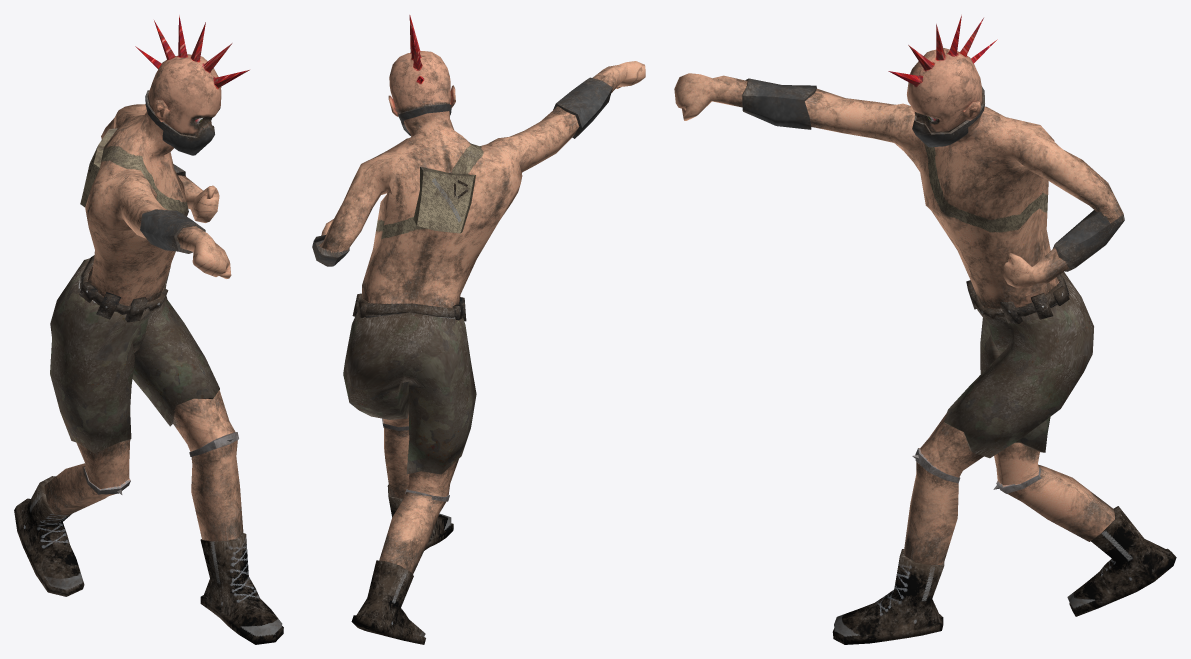
File: Anim_ataque_d1_npc2.0021.obj
3 views of the same model, side by side, from view 1: azimuth 30°, elevation 25°; view 2: azimuth 150°, elevation 25°; view 3: azimuth 270°, elevation 25° (orthographic). The views are drawn at different scales.
Visible parts, largest first — view 1: polySurface1; view 2: polySurface1; view 3: polySurface1.
Part boxes in pixels (box(x1,y1,x2,y2)): polySurface1: box(14, 15, 283, 644); polySurface1: box(312, 15, 645, 644); polySurface1: box(674, 15, 1176, 644).
Size of the model in its own units: 3 by 9.47 by 6.89.
